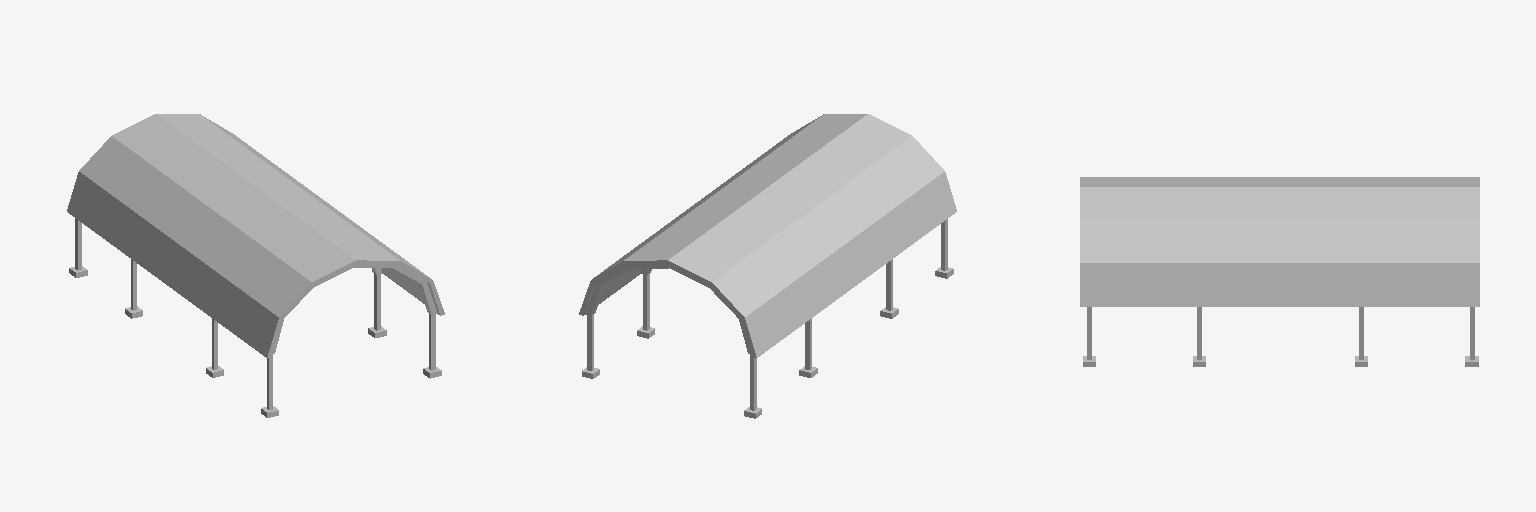
Rendered from SM_Bld_Train_Cover_01.obj.
The picture shows the model from 3 angles: view 1: azimuth 30°, elevation 25°; view 2: azimuth 150°, elevation 25°; view 3: azimuth 270°, elevation 25°; orthographic projection.
Parts seen in each view (by area): view 1: SM_Bld_Train_Cover_01:Mesh; view 2: SM_Bld_Train_Cover_01:Mesh; view 3: SM_Bld_Train_Cover_01:Mesh.
Boxes of the visible parts, x1,y1,x2,y2 form: SM_Bld_Train_Cover_01:Mesh: [67, 114, 444, 417]; SM_Bld_Train_Cover_01:Mesh: [579, 114, 956, 418]; SM_Bld_Train_Cover_01:Mesh: [1080, 177, 1479, 366].
Bounding box in the file's own units: 22.49 × 16.61 × 43.74.